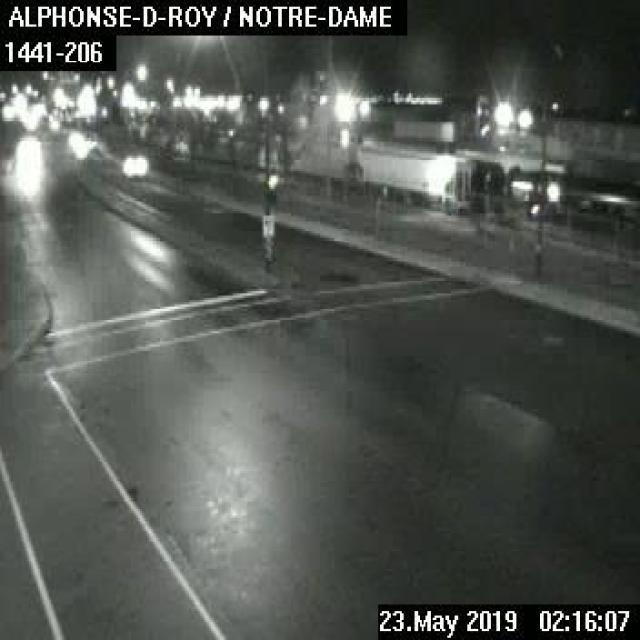vehicle: (116, 151, 149, 178)
